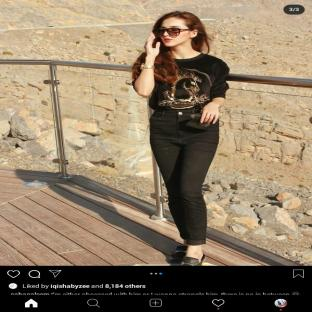Human: (127, 11, 229, 266)
